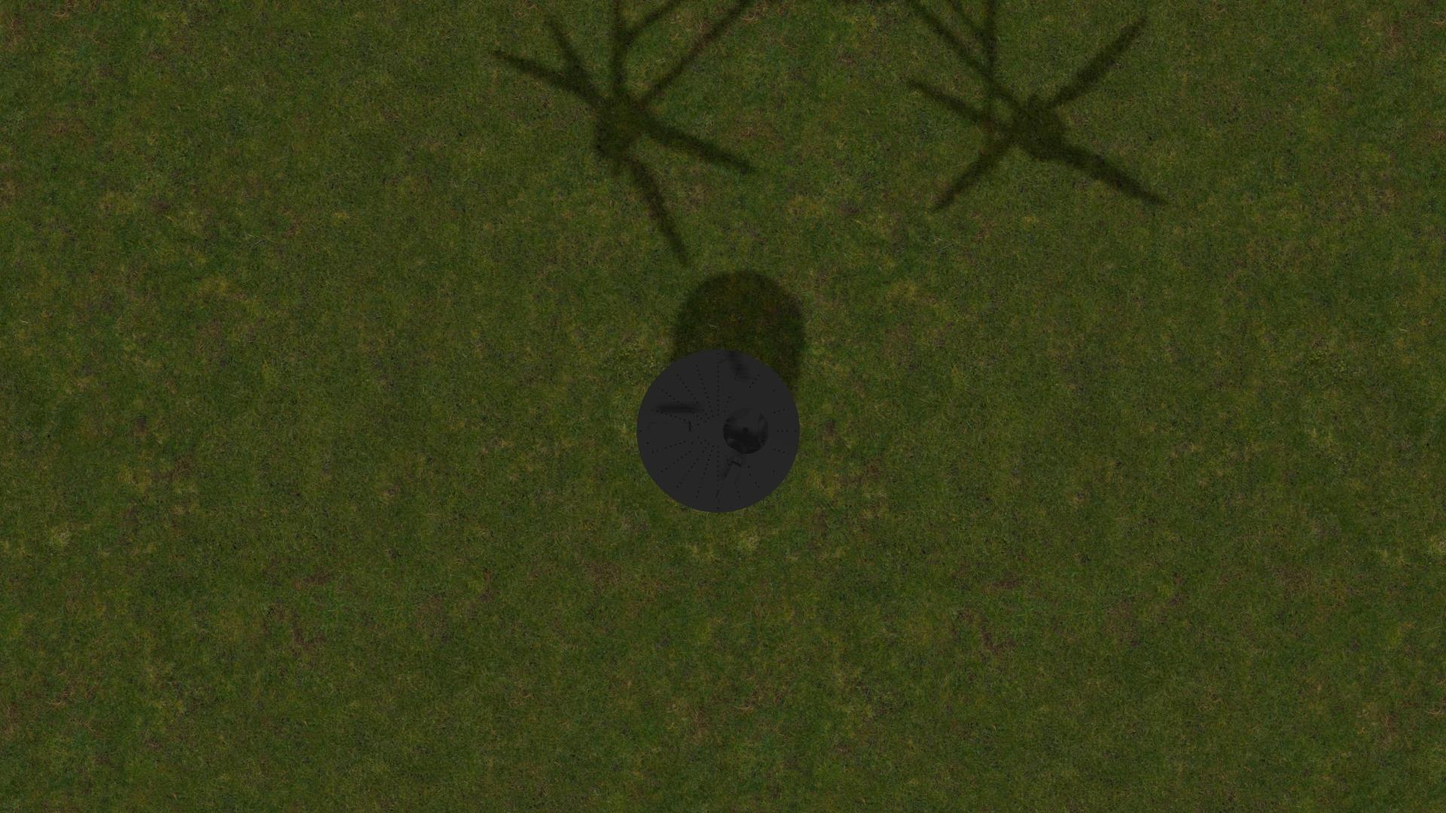alca: (713, 455, 743, 506), (715, 355, 743, 404), (645, 422, 697, 434)
armadilha: (637, 349, 800, 513)
